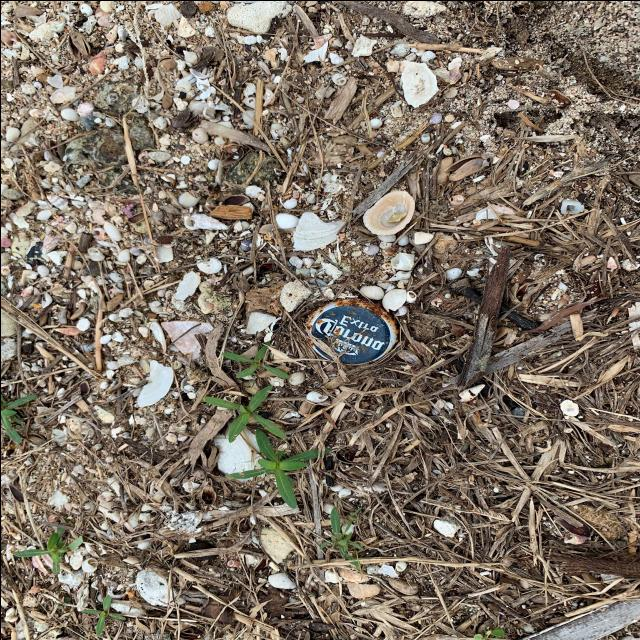Metal bottle cap: (302, 297, 398, 364)
